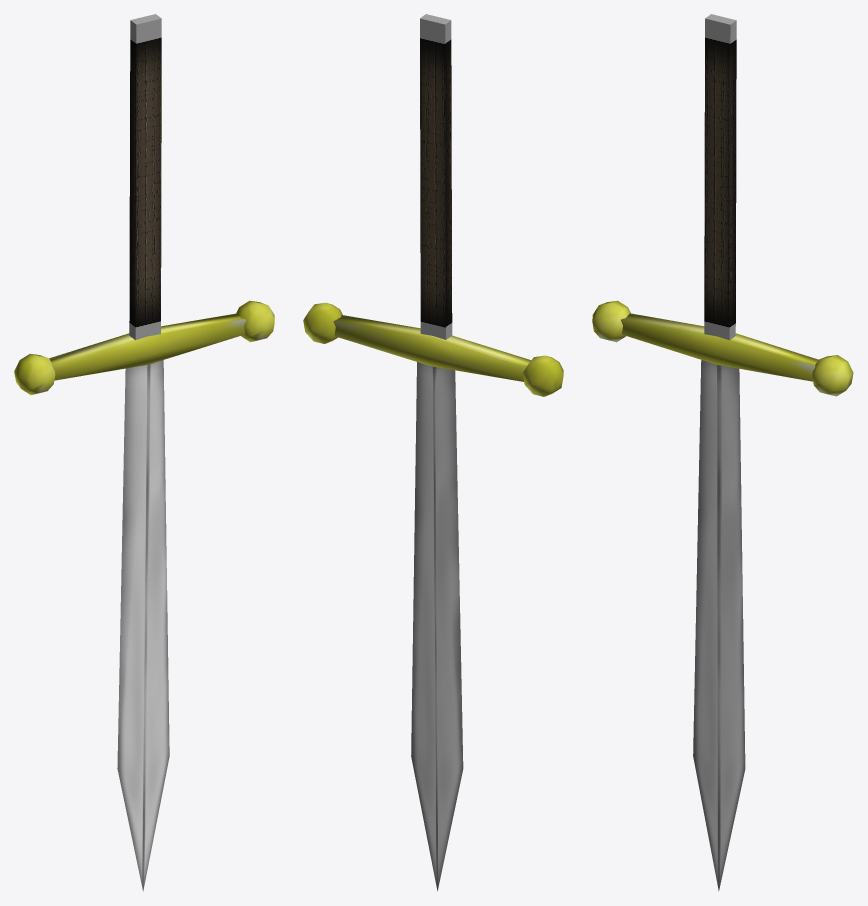
Rendered from SWORD.FBX.
3 views of the same model, side by side, from view 1: azimuth 30°, elevation 25°; view 2: azimuth 150°, elevation 25°; view 3: azimuth 330°, elevation 25° (orthographic).
Visible parts, largest first — view 1: Box006; view 2: Box006; view 3: Box006.
Boxes of the visible parts, x1,y1,x2,y2 form: Box006: (14,14,274,891); Box006: (303,14,563,891); Box006: (592,14,853,891).
Bounding box in the file's own units: 4.9 × 15.98 × 0.7129.
